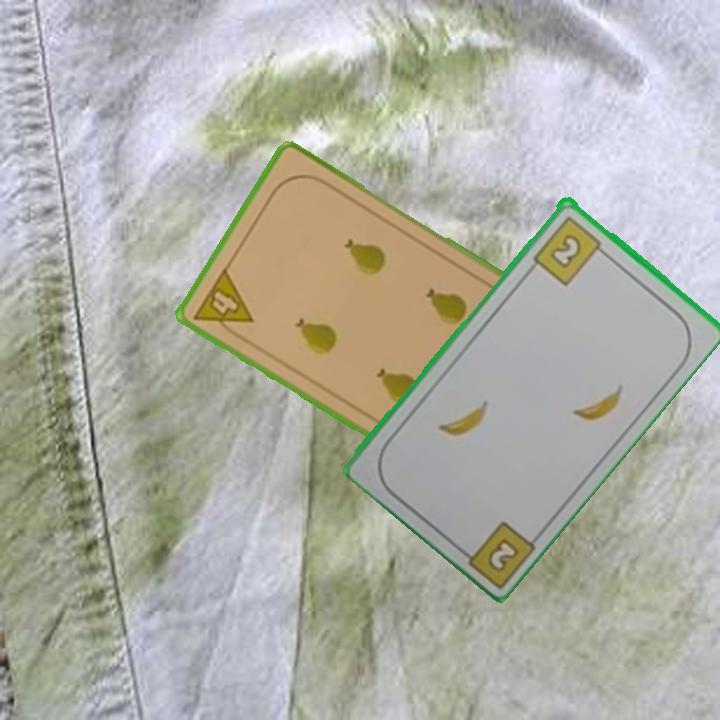2b: (529, 212, 610, 288), (483, 534, 522, 575)
4p: (190, 264, 256, 343)
